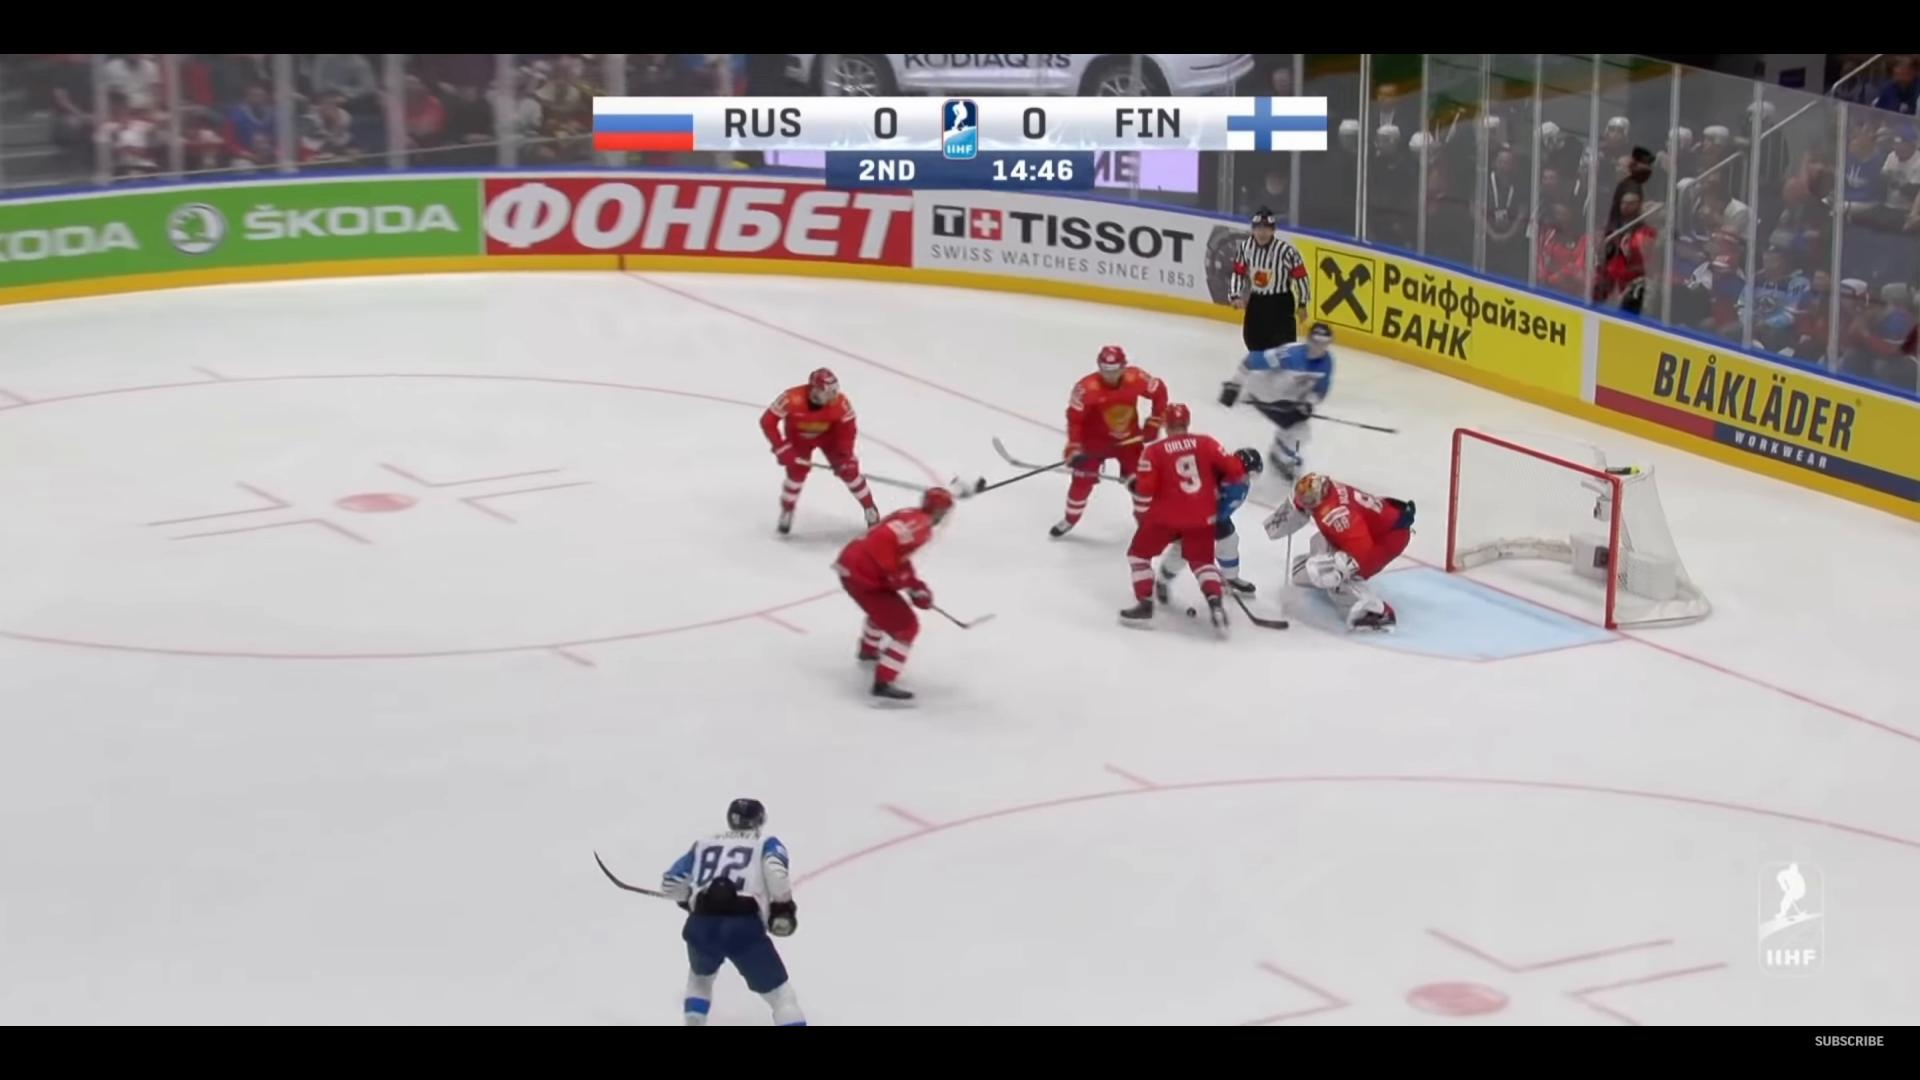puck: (1184, 607, 1196, 618)
